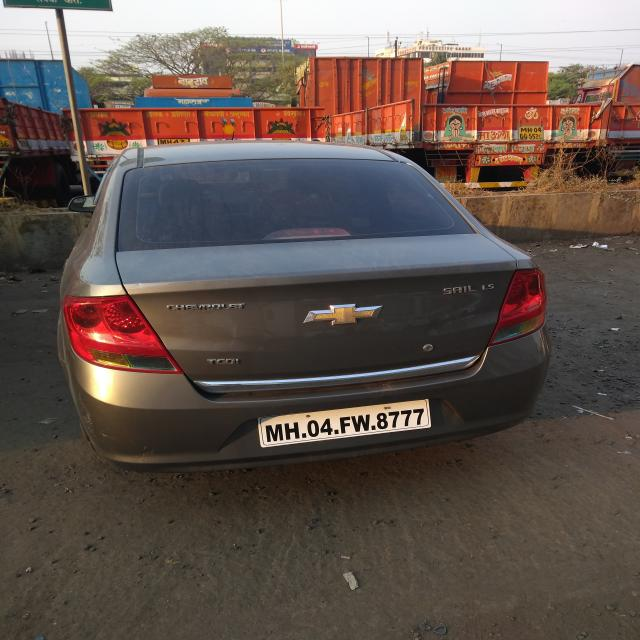Number-Plate: (263, 404, 429, 450)
